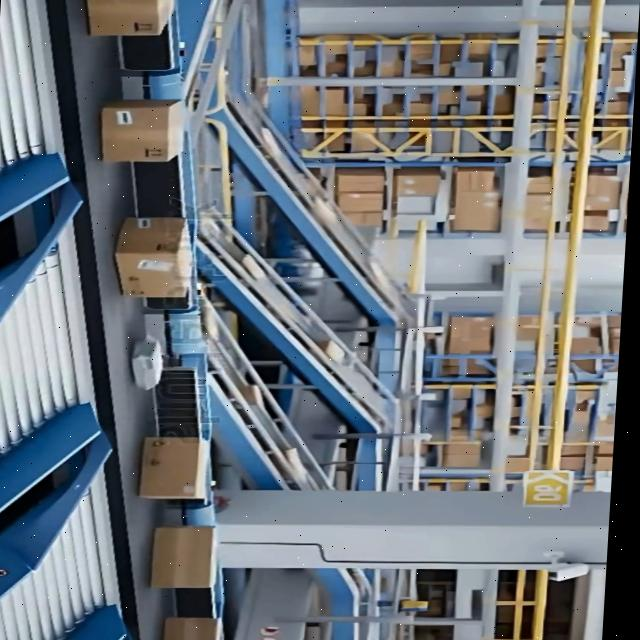product 1: (111, 217, 195, 299), (137, 436, 211, 500), (149, 526, 218, 578)
product 2: (128, 338, 165, 390)
